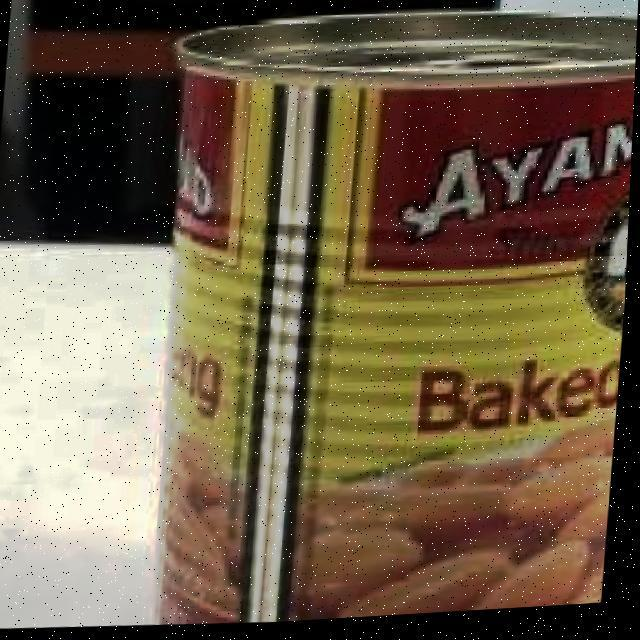Lata: (162, 12, 634, 621)
